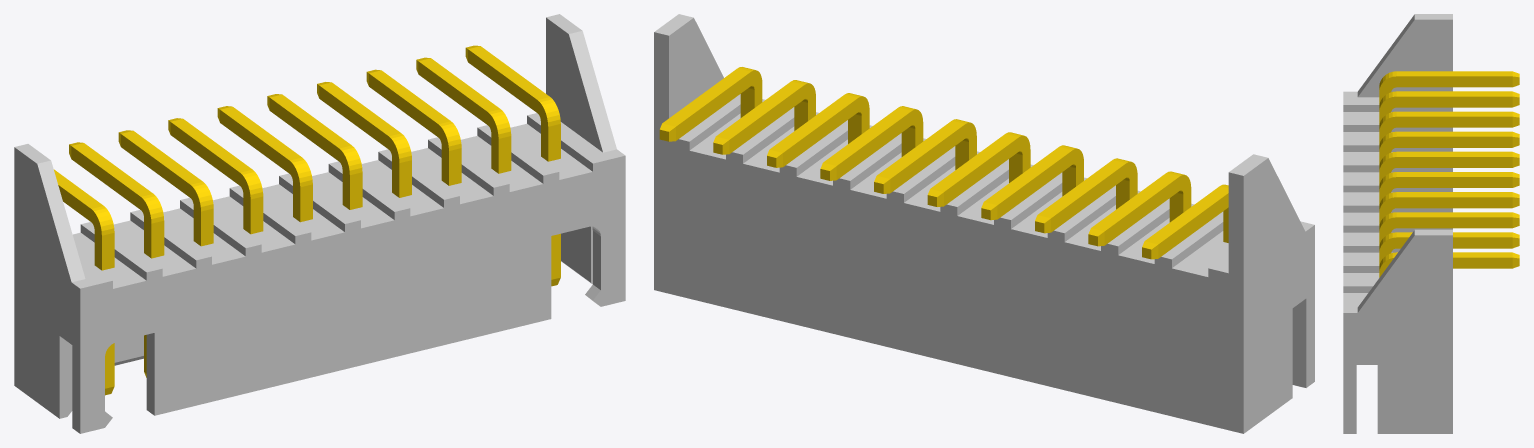
File: DS1069-10 CWF-10R.obj
The picture shows the model from 3 angles, left to right: view 1: azimuth 30°, elevation 25°; view 2: azimuth 150°, elevation 25°; view 3: azimuth 270°, elevation 25°; orthographic projection. The views are drawn at different scales.
Parts seen in each view (by area): view 1: DS1069-10_CWF-10R; view 2: DS1069-10_CWF-10R; view 3: DS1069-10_CWF-10R.
Part boxes in pixels (left/top/right/bottom): DS1069-10_CWF-10R: left=14, top=14, right=625, bottom=433; DS1069-10_CWF-10R: left=654, top=14, right=1314, bottom=433; DS1069-10_CWF-10R: left=1343, top=14, right=1519, bottom=433.
Size of the model in its own units: 0.0156 by 0.00652 by 0.00525.
